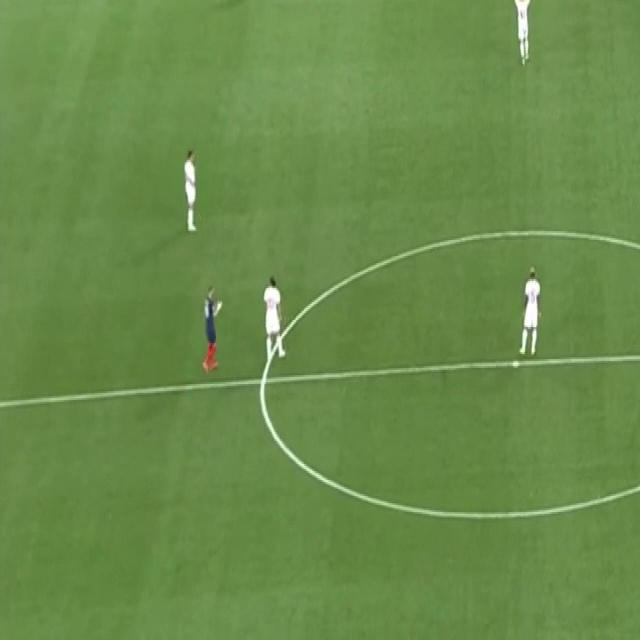player-white: (196, 280, 228, 380), (259, 274, 289, 368), (506, 0, 543, 70), (518, 257, 542, 361), (182, 144, 198, 238), (636, 0, 640, 20)
